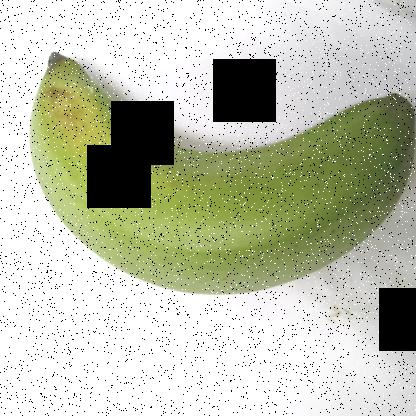freshunripe: (23, 30, 415, 312)
